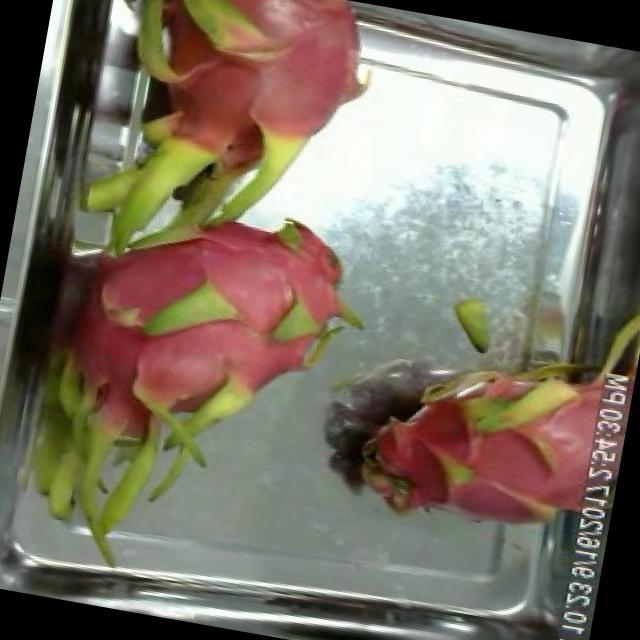Fruit: (108, 284, 272, 442)
